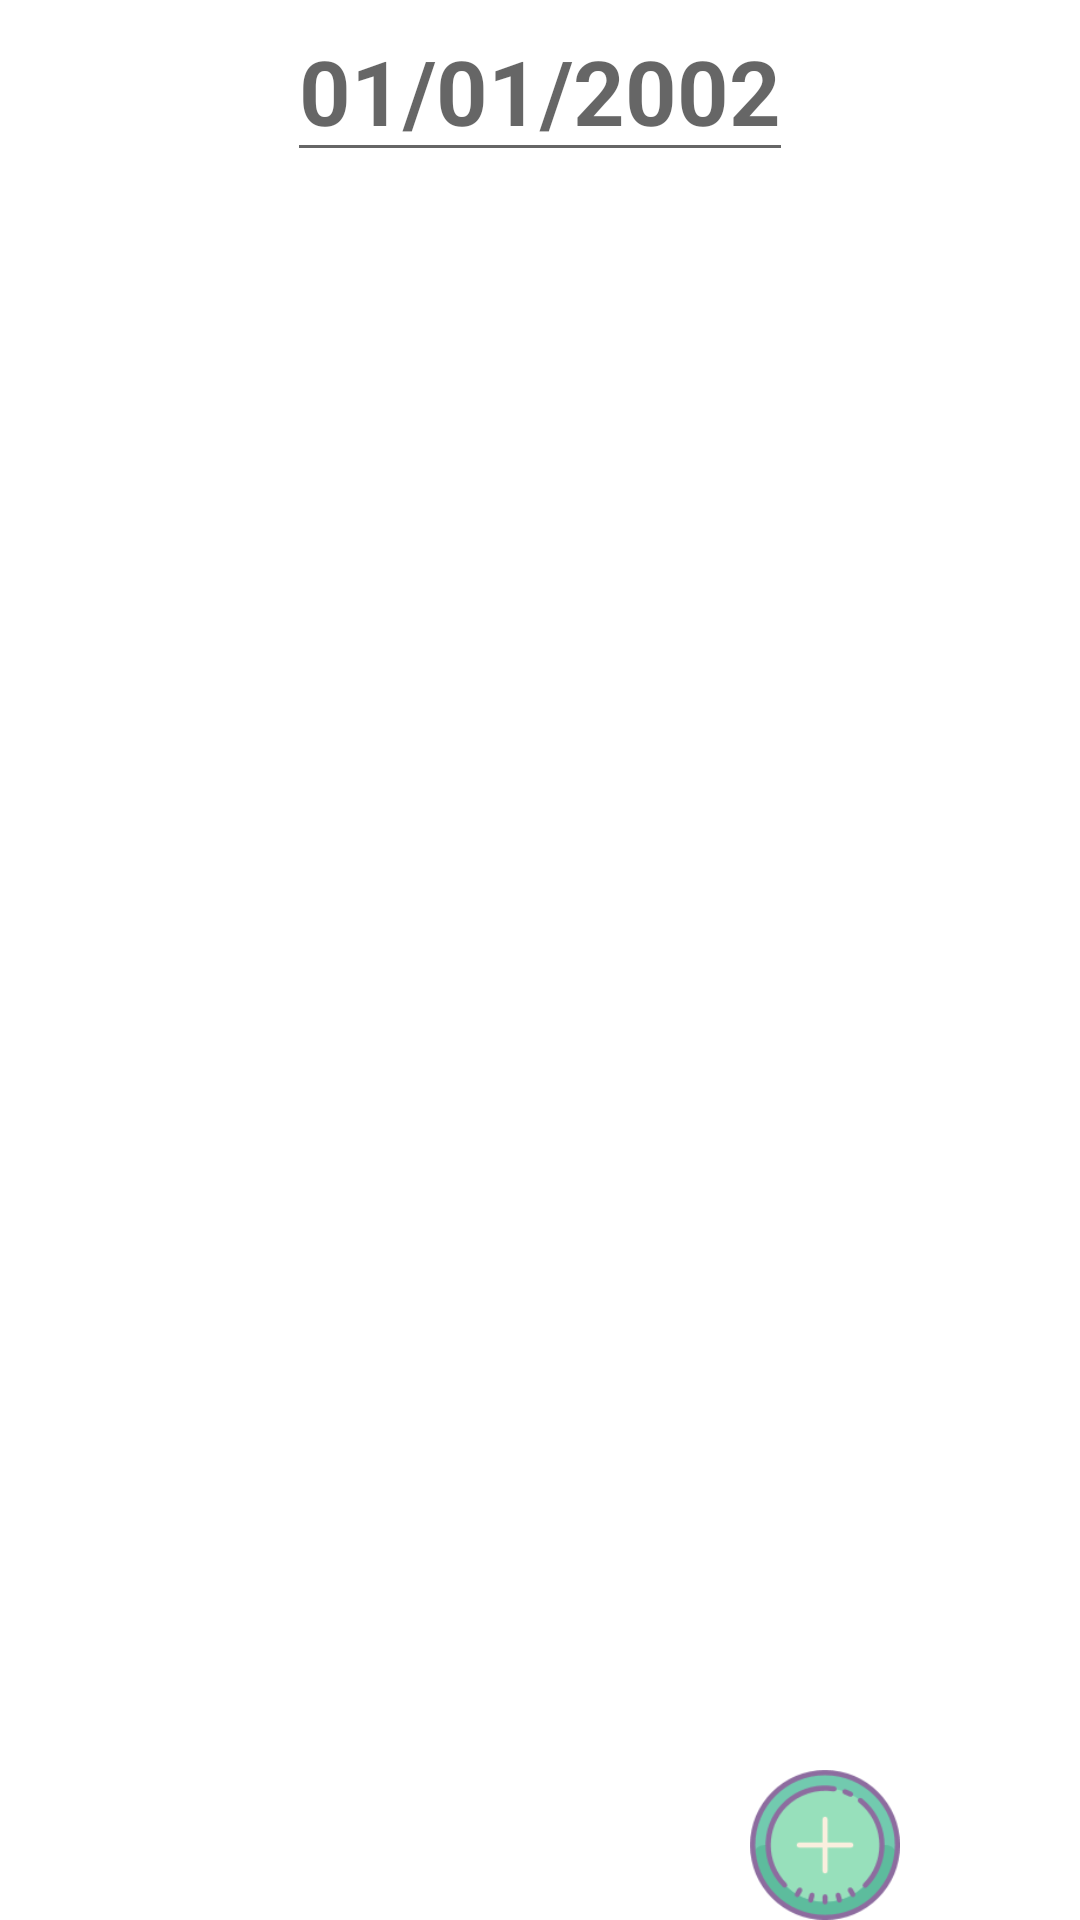

Locate icon controls on the screen. Image size 1080 x 1920, boxes as (x1, y1, x2, y2).
add: (750, 1770, 900, 1920)
